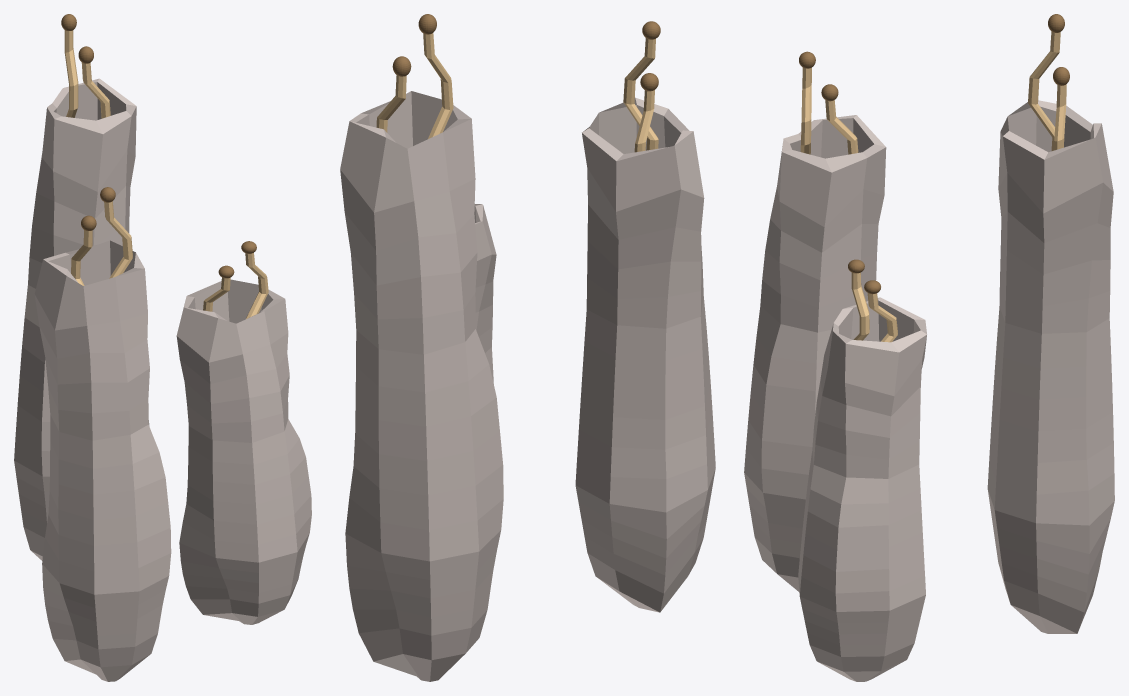
The model's file is flores.fbx.
3 views of the same model, side by side, from view 1: azimuth 30°, elevation 25°; view 2: azimuth 150°, elevation 25°; view 3: azimuth 270°, elevation 25° (orthographic). The views are drawn at different scales.
Parts seen in each view (by area): view 1: Flower.002; view 2: Flower.002; view 3: Flower.002.
Part boxes in pixels (<box>): Flower.002: <box>14,14,311,681</box>; Flower.002: <box>340,14,715,681</box>; Flower.002: <box>744,14,1114,681</box>.
Bounding box in the file's own units: 82.2 × 166 × 90.81.
